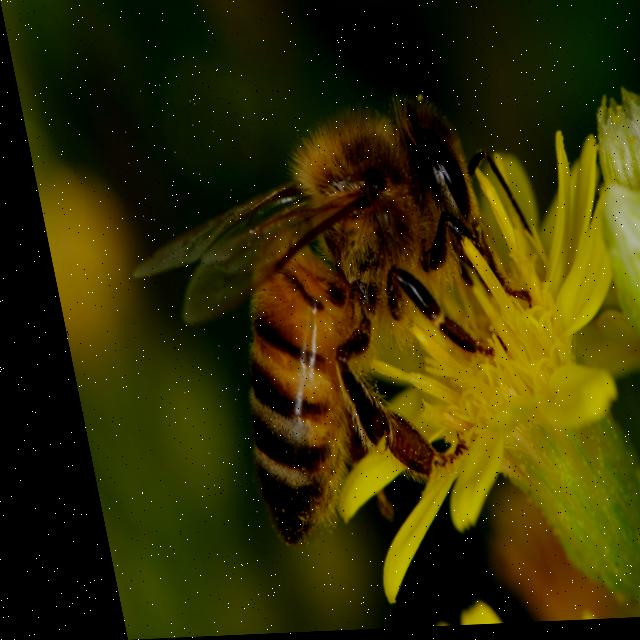Apis-mellifera-scutellata: (105, 63, 531, 545)
